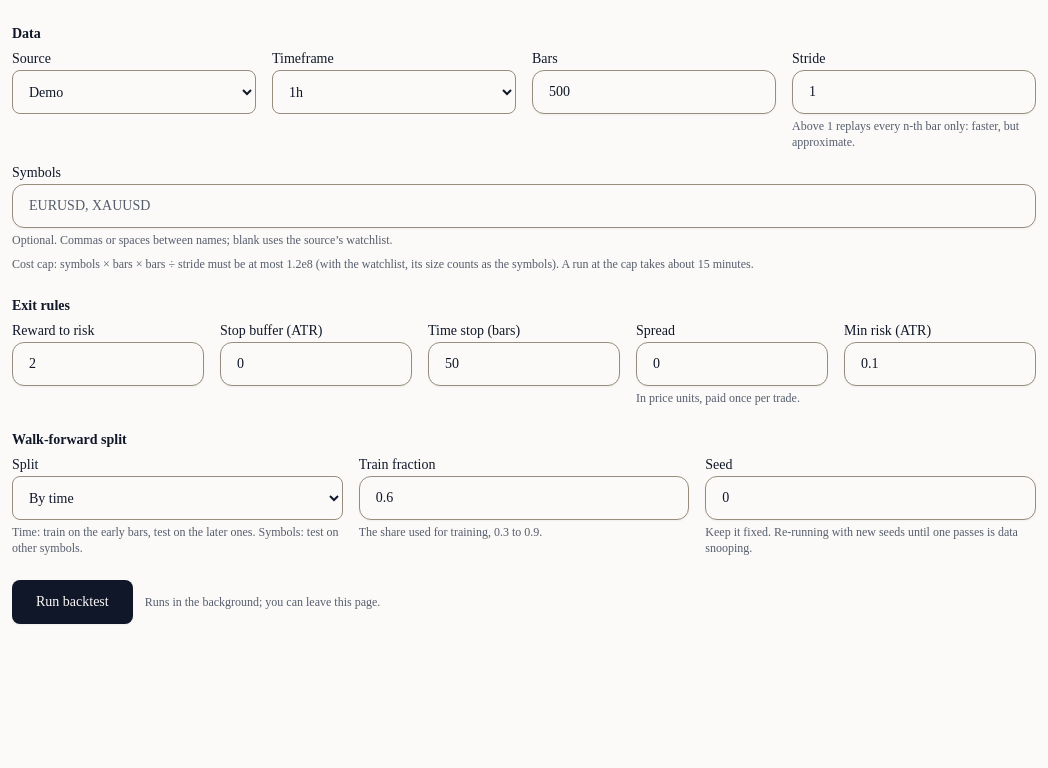
Test case: BacktestRunForm › does not re-read the page for a refusal other than 409
Click the button "Run backtest" at (72, 602), box 12,580 -> 133,624
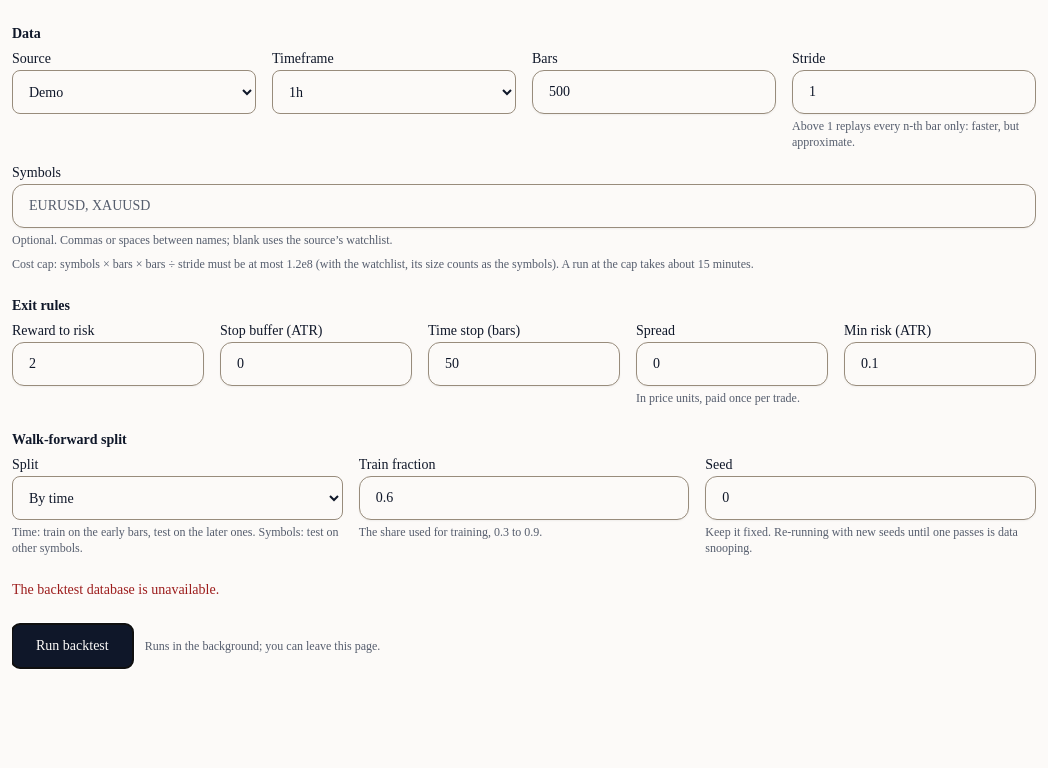
Now the message reads "The backtest database is unavailable.", box 12,582 -> 219,597
